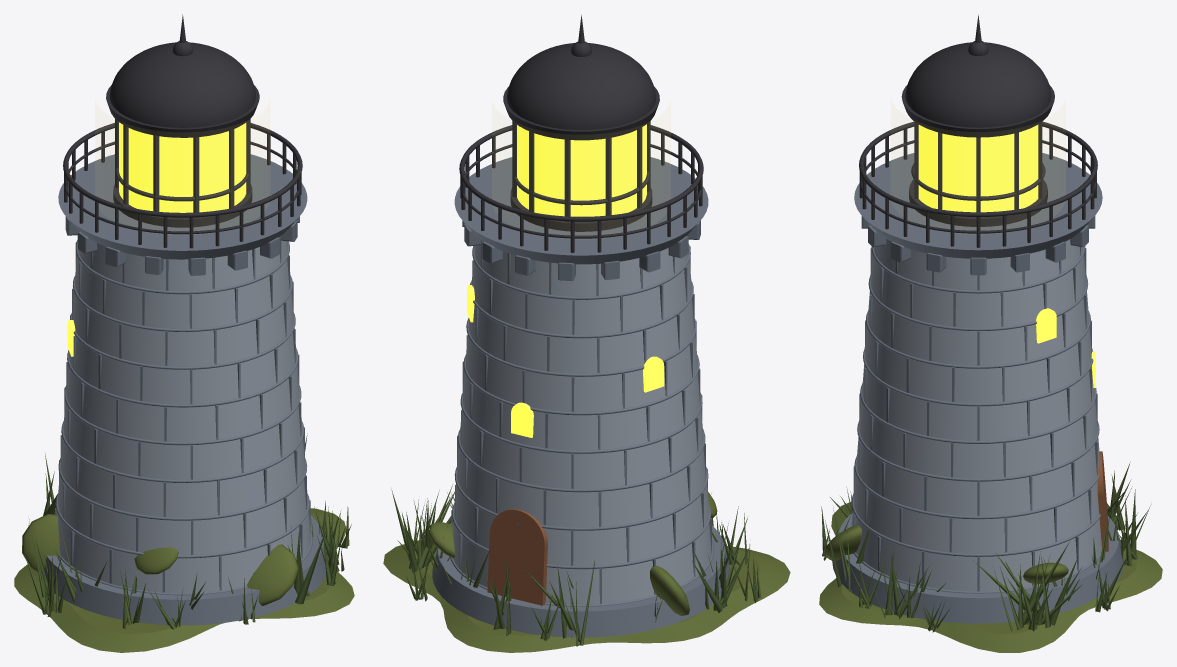
Rendered from BAYOU_LANTERN_TOWER.glb.
3 renders of one model, left to right at view 1: azimuth 30°, elevation 25°; view 2: azimuth 150°, elevation 25°; view 3: azimuth 270°, elevation 25°, orthographic. The views are drawn at different scales.
Visible parts, largest first — view 1: Tower, Course, Gallery, Dome, Glow_LanternRoom, Ground, Tower_Plinth, Gallery_Rail, Grass, Moss, LanternRoom_Mullions, Corbel (+2 smaller); view 2: Tower, Course, Gallery, Dome, Ground, Tower_Plinth, Glow_LanternRoom, Grass, Gallery_Rail, Door, LanternRoom_Mullions, Corbel (+4 smaller); view 3: Tower, Course, Gallery, Dome, Grass, Glow_LanternRoom, Tower_Plinth, Ground, Gallery_Rail, LanternRoom_Mullions, Corbel, LanternRoom_Top (+4 smaller).
Part boxes in pixels (x1,y1,x2,y2): Tower: (57, 240, 310, 592); Course: (55, 235, 312, 595); Gallery: (58, 154, 307, 259); Dome: (109, 42, 255, 127); Glow_LanternRoom: (119, 122, 246, 212); Ground: (14, 508, 354, 652); Tower_Plinth: (40, 515, 328, 625); Gallery_Rail: (63, 123, 302, 248); Grass: (25, 433, 351, 629); Moss: (22, 514, 298, 605); LanternRoom_Mullions: (115, 119, 250, 217); Corbel: (65, 216, 299, 275); Tower: (452, 245, 711, 604); Course: (450, 240, 713, 606); Gallery: (454, 157, 708, 264); Dome: (507, 43, 655, 129); Ground: (383, 540, 790, 652); Tower_Plinth: (432, 525, 730, 637); Glow_LanternRoom: (517, 124, 646, 216); Grass: (391, 484, 761, 646); Gallery_Rail: (459, 125, 703, 252); Door: (487, 509, 547, 605); LanternRoom_Mullions: (512, 121, 650, 222); Corbel: (462, 220, 700, 281); Tower: (851, 239, 1101, 591); Course: (851, 246, 1103, 593); Gallery: (854, 153, 1102, 258); Dome: (905, 42, 1051, 127); Grass: (821, 462, 1151, 632); Glow_LanternRoom: (918, 124, 1038, 212); Tower_Plinth: (832, 513, 1124, 623); Ground: (819, 502, 1162, 652); Gallery_Rail: (859, 121, 1097, 247); LanternRoom_Mullions: (911, 121, 1045, 217); Corbel: (861, 216, 1095, 275); LanternRoom_Top: (901, 85, 1054, 137).
Bounding box in the file's own units: 10.47 × 16.77 × 9.4.
